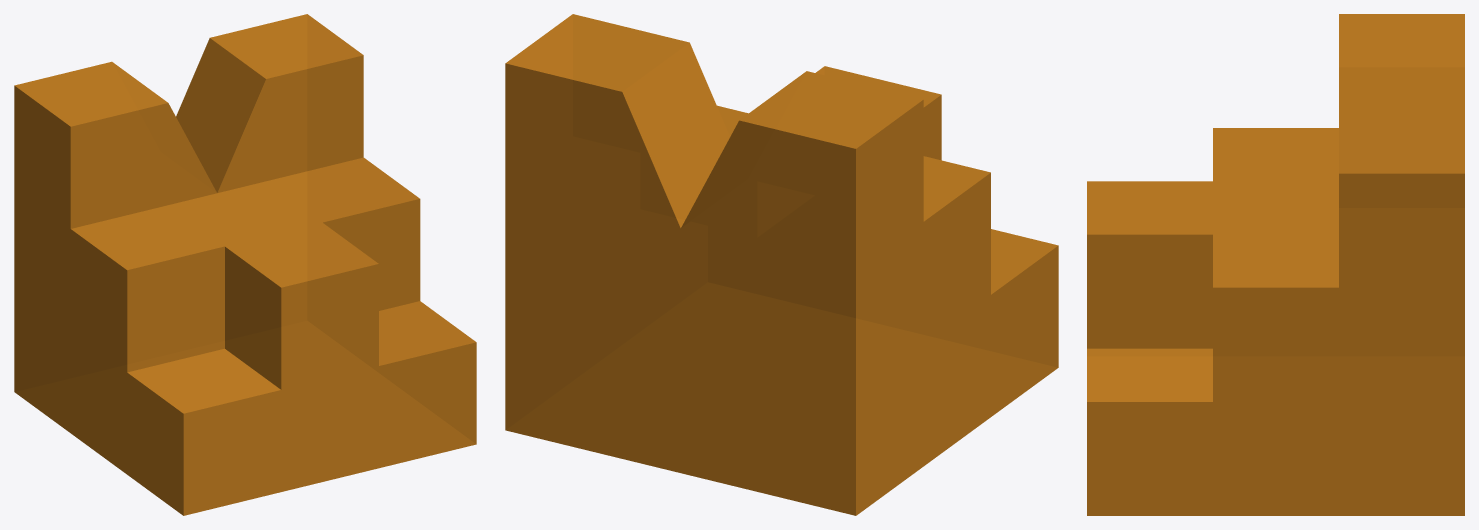
The picture shows the model from 3 angles, left to right: view 1: azimuth 30°, elevation 25°; view 2: azimuth 150°, elevation 25°; view 3: azimuth 270°, elevation 25°; orthographic projection. The views are drawn at different scales.
Parts seen in each view (by area): view 1: SketchUp; view 2: SketchUp; view 3: SketchUp.
Part boxes in pixels (x1=…): SketchUp: x1=14, y1=14, x2=476, y2=515; SketchUp: x1=505, y1=14, x2=1058, y2=515; SketchUp: x1=1087, y1=14, x2=1464, y2=515.
Size of the model in its own units: 59.06 by 59.06 by 59.06.
